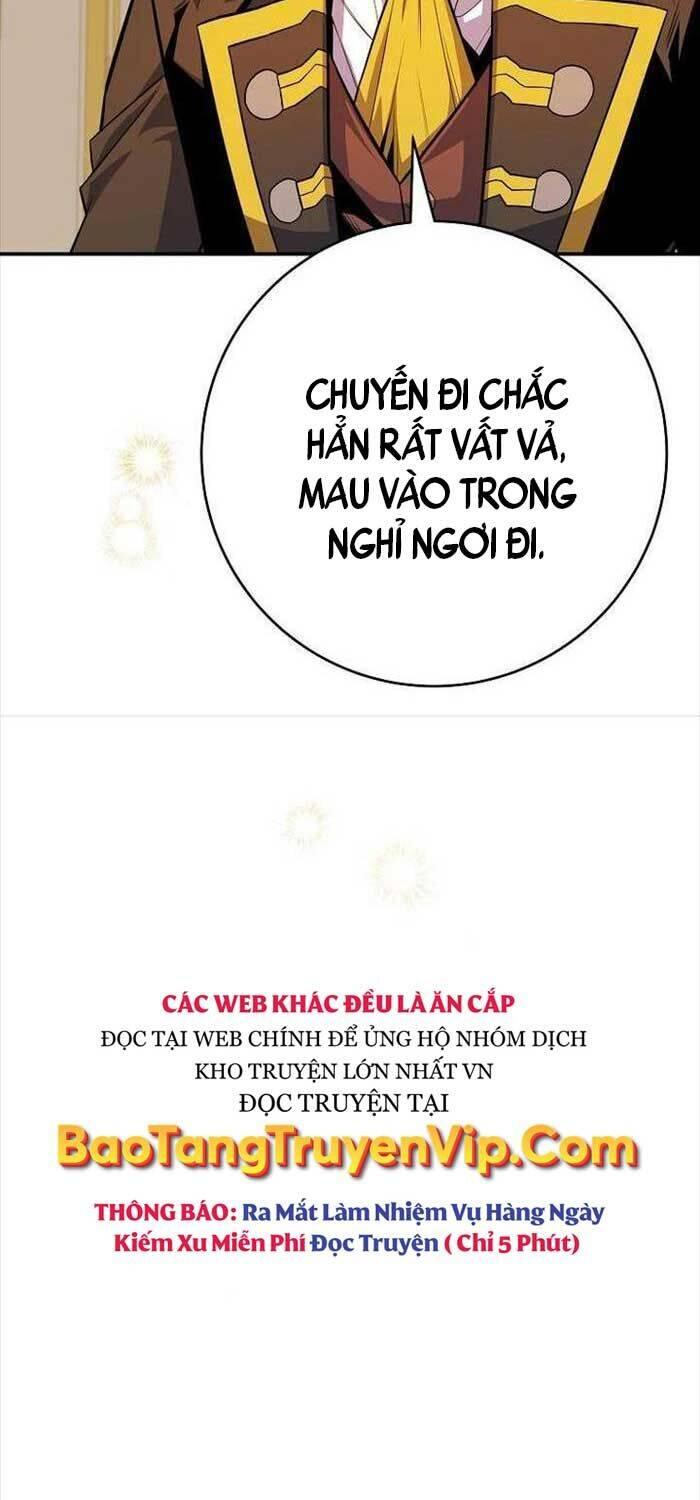quangcao: (58, 988, 644, 1264)
